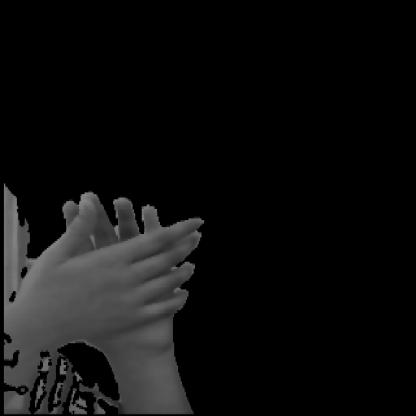clap: (29, 184, 199, 348)
